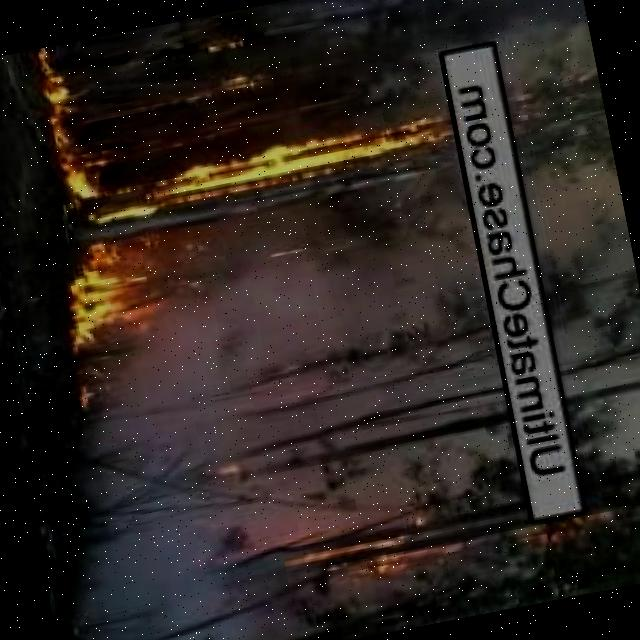fire: (22, 39, 147, 359), (125, 108, 463, 212), (269, 512, 443, 602), (172, 64, 275, 118), (542, 504, 622, 548), (195, 28, 244, 66)
